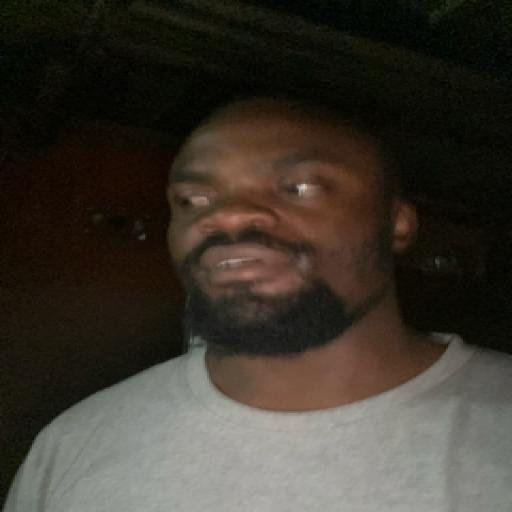JEANLUC: (130, 94, 416, 364)
